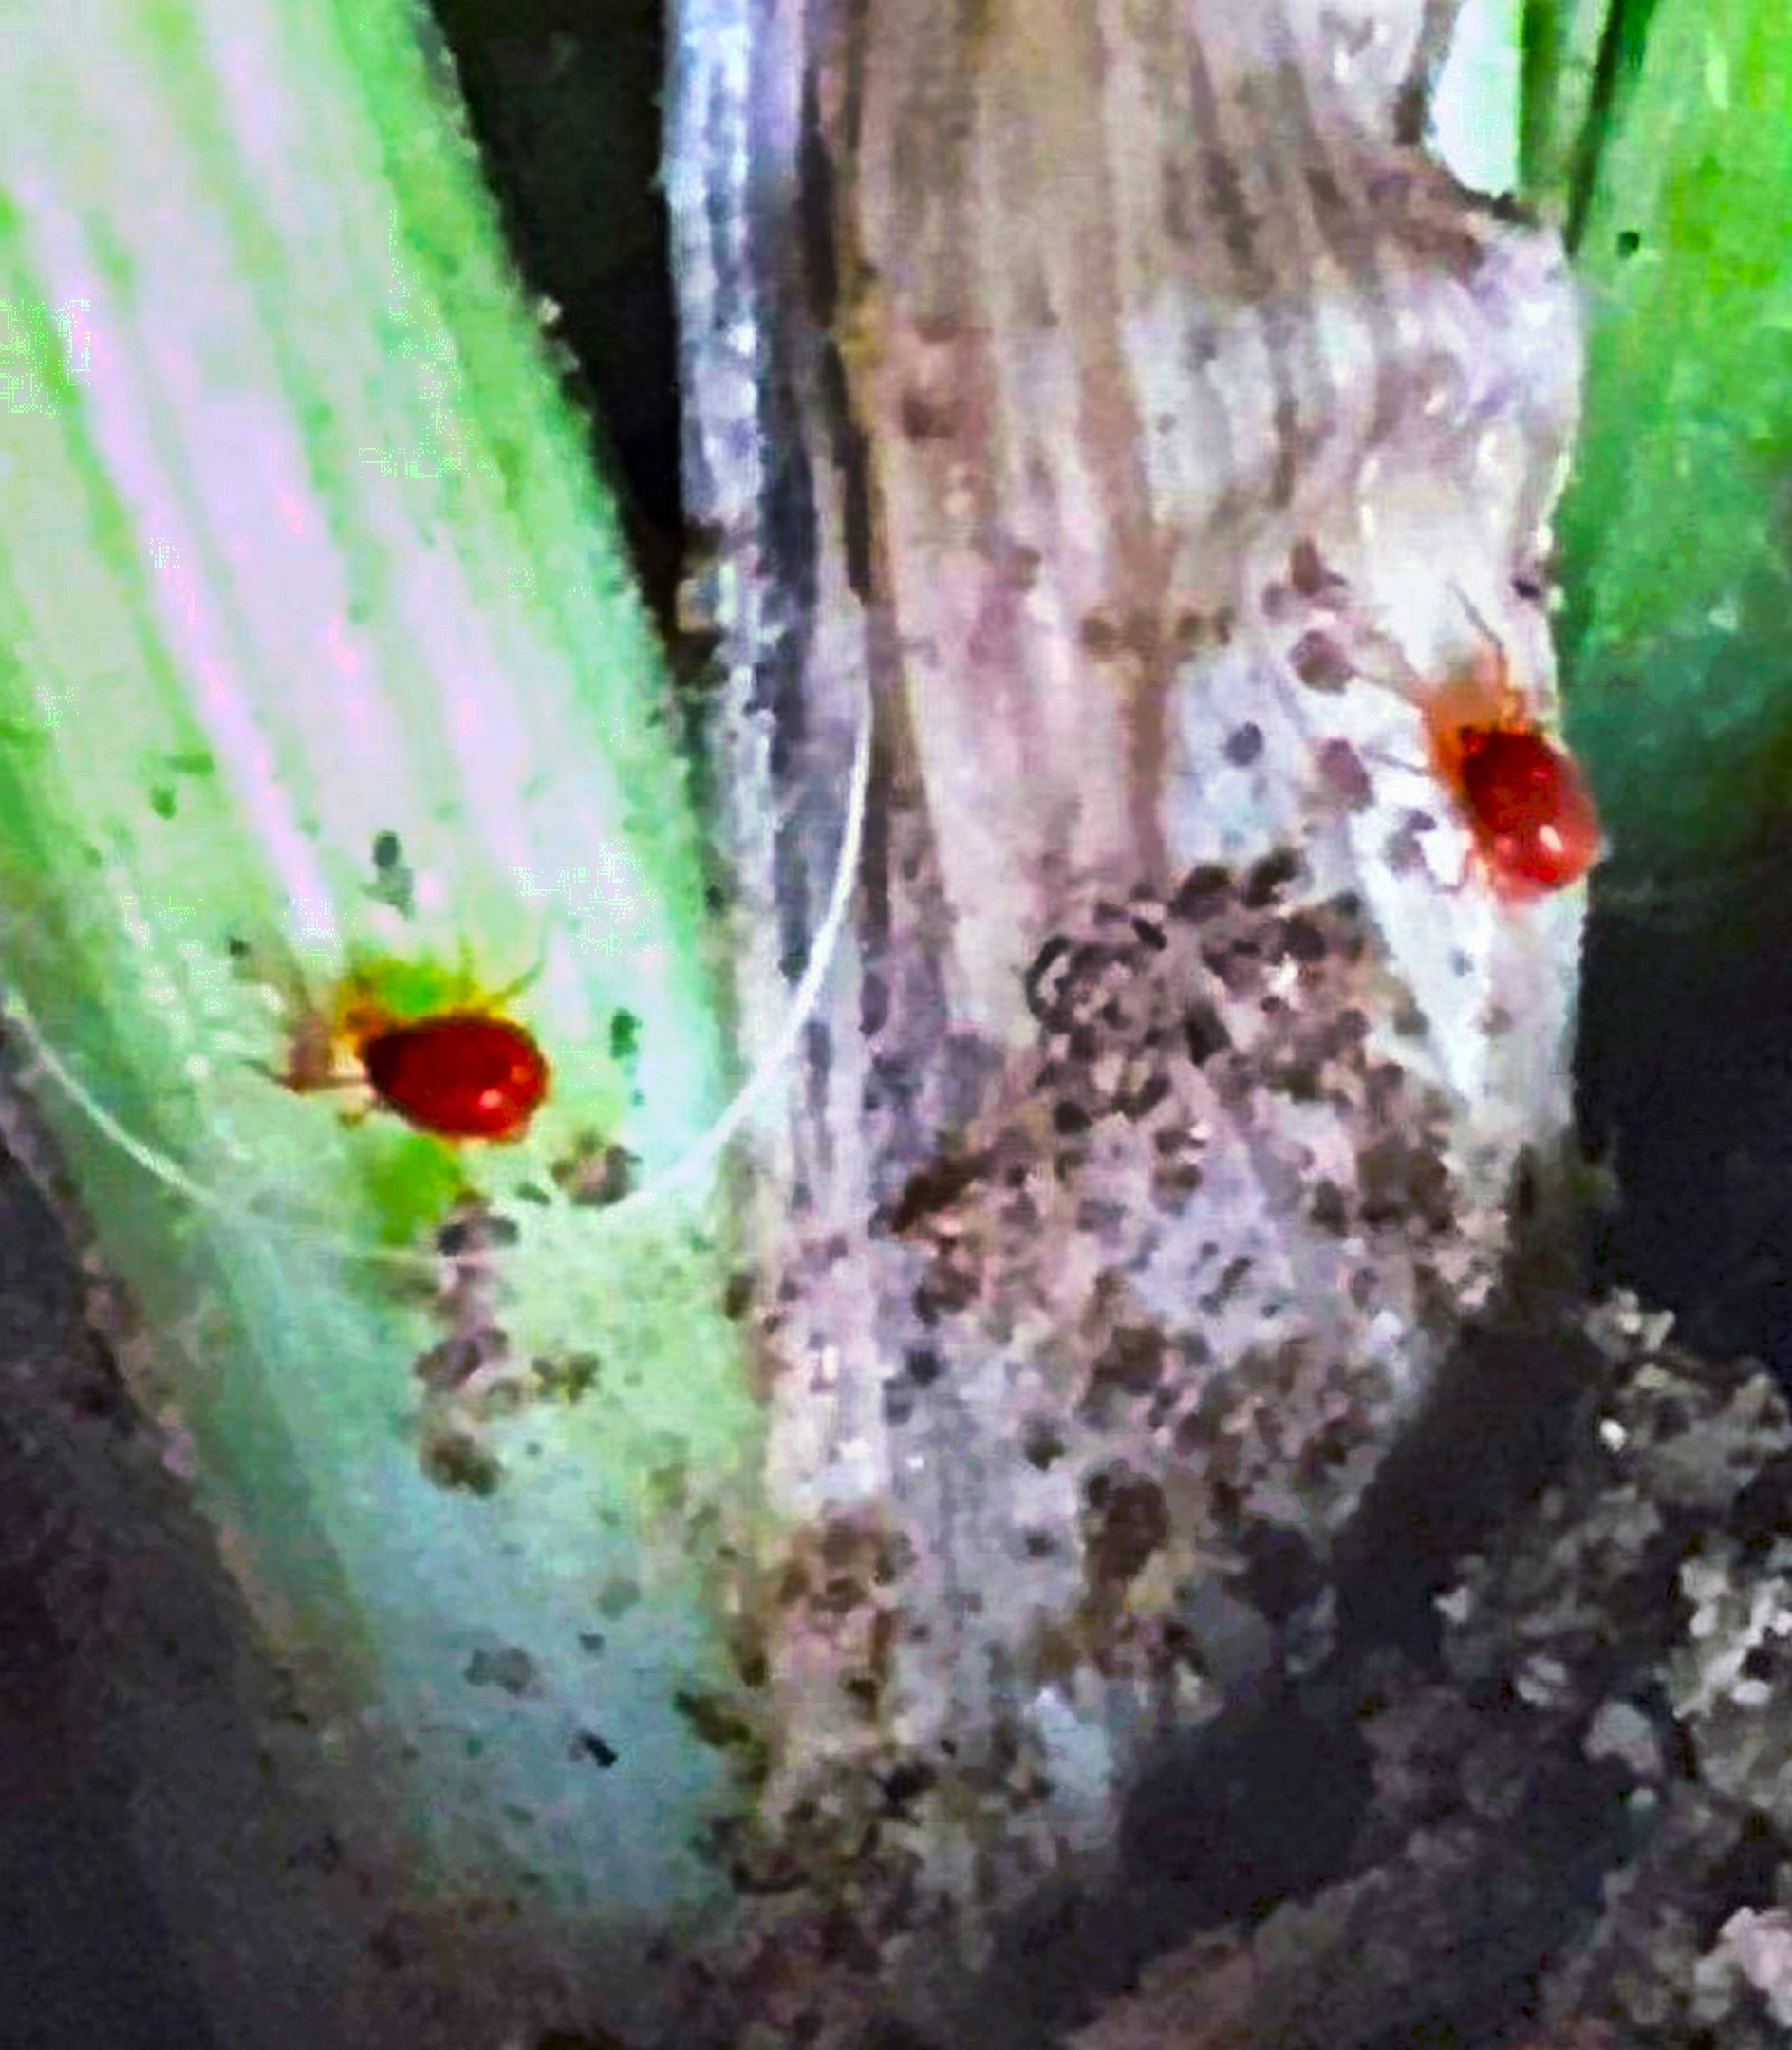Wheat Red Spider: (1318, 570, 1621, 938)
